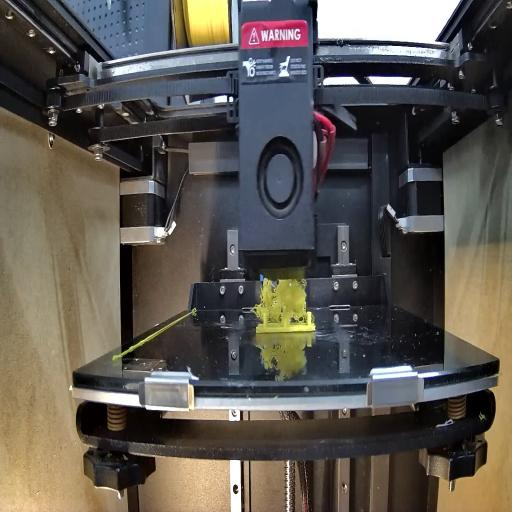spaghetti: (253, 282, 313, 321)
